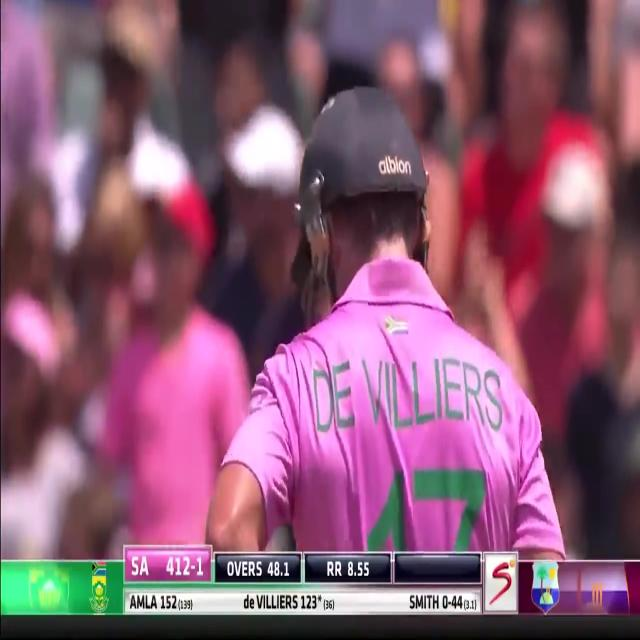Ball: (210, 86, 557, 556)
